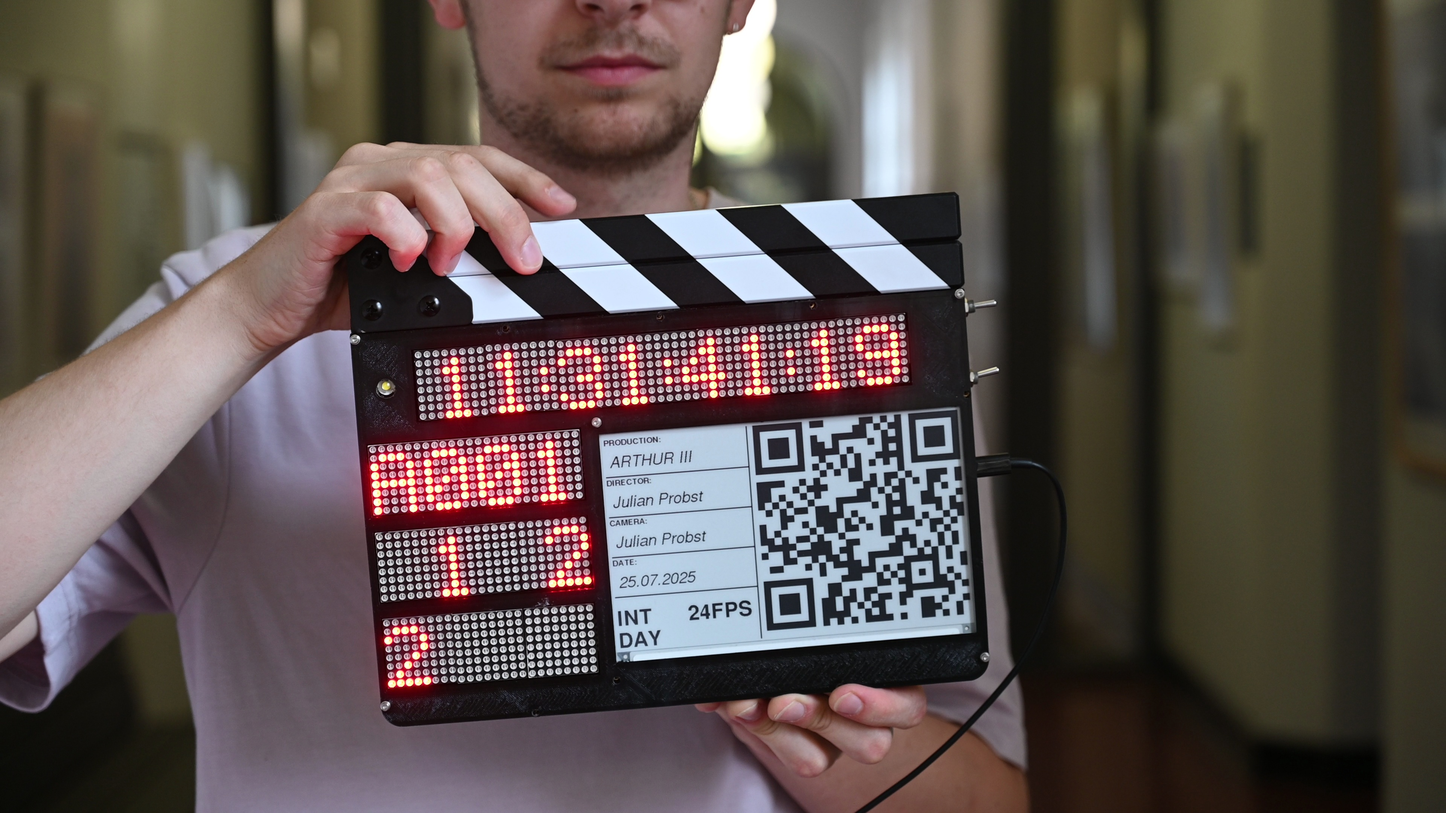ARC-SLATE: (345, 240, 991, 730)
